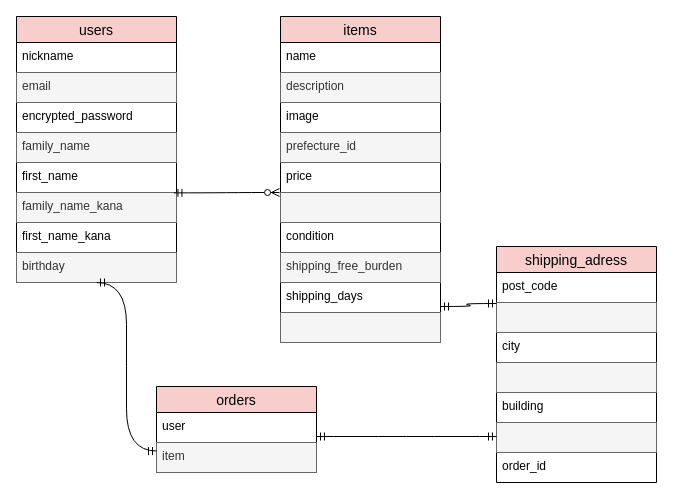
This 673x499 diagram has some shape labels left out. Each missing label, with the centre of its shape:
"category_id" belongs at [360,207].
"phone" belongs at [576,437].
"state" belongs at [576,317].
"street_adress" belongs at [576,377].
"user_id" belongs at [360,327].
